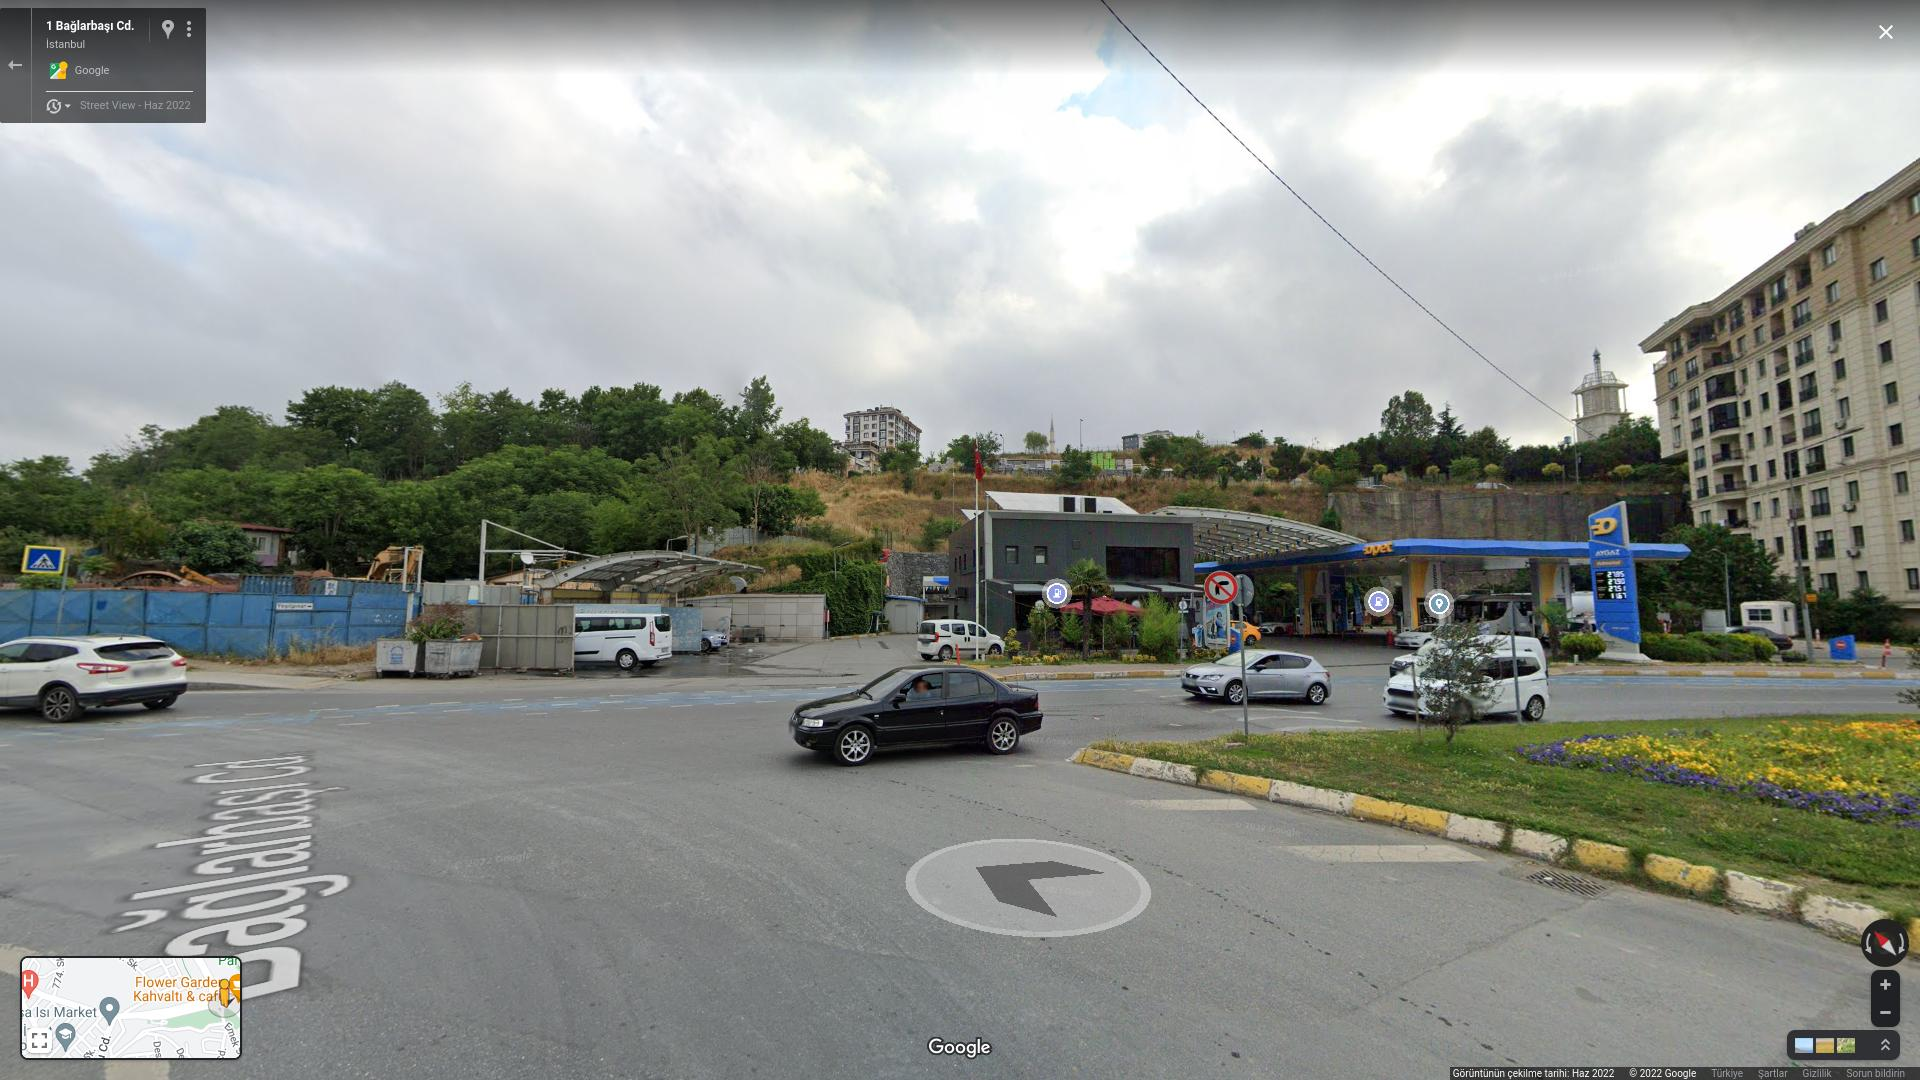rightturnsareforbidden: (1203, 571, 1237, 603)
